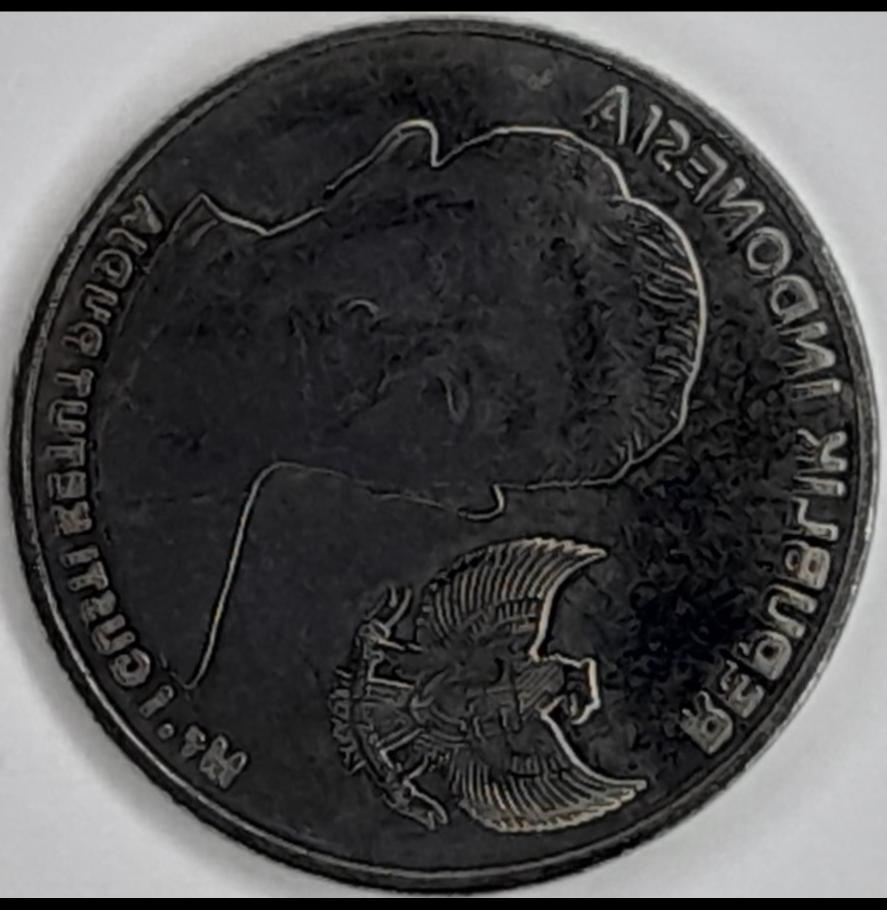coin_1000_e2016: (15, 18, 875, 910)
